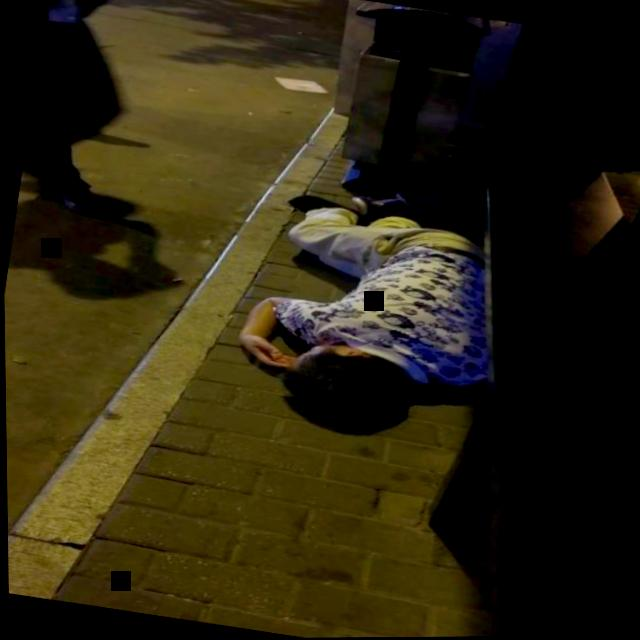Fall-Detected: (205, 163, 530, 470)
